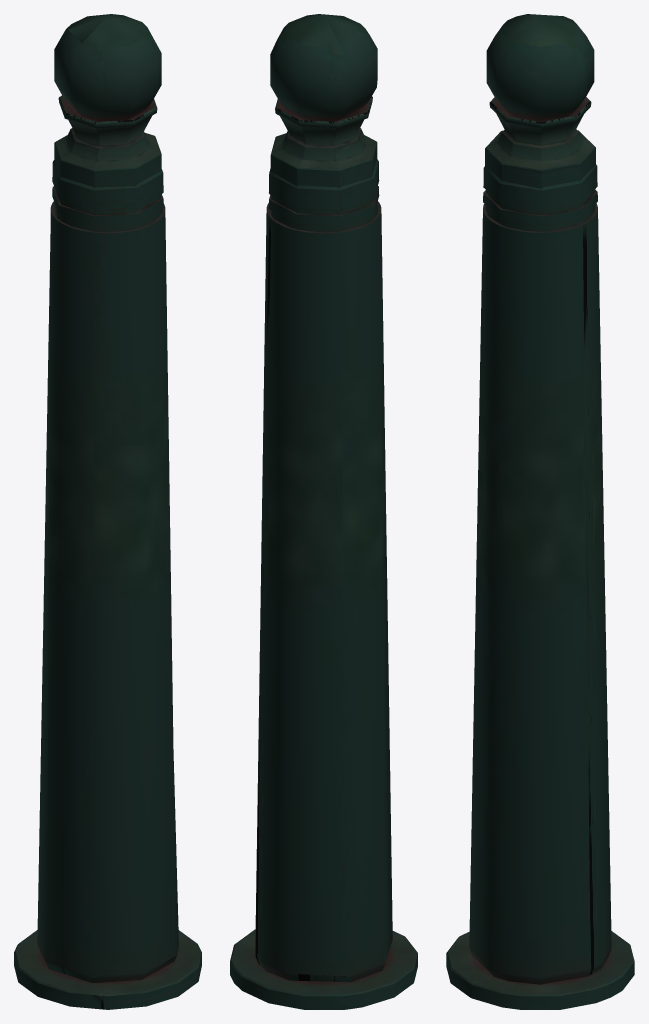
File: Post.fbx
3 renders of one model, left to right at view 1: azimuth 30°, elevation 25°; view 2: azimuth 150°, elevation 25°; view 3: azimuth 270°, elevation 25°, orthographic.
Parts seen in each view (by area): view 1: polymsh11; view 2: polymsh11; view 3: polymsh11.
Boxes of the visible parts, bbox=[...] form: polymsh11: bbox=[14, 14, 201, 1009]; polymsh11: bbox=[230, 14, 417, 1009]; polymsh11: bbox=[446, 14, 634, 1009].
Bounding box in the file's own units: 0.1492 × 0.85 × 0.1517.
